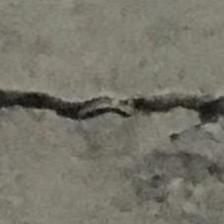Crack: (0, 81, 224, 136)
